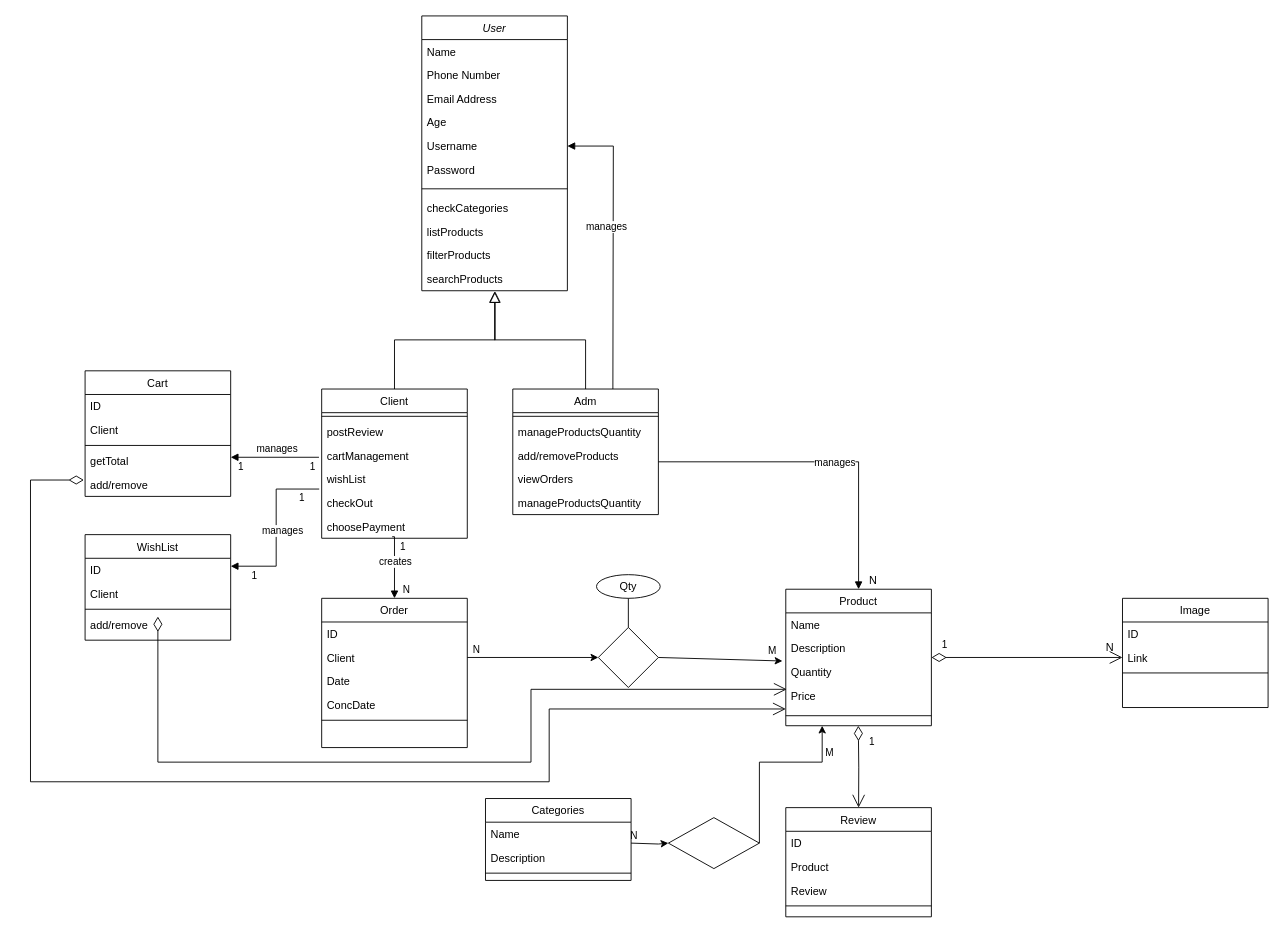
Some shapes in this 1284 by 933 pixel diagram are drawn without their labels. The centre of each missing label's shape, as x and y in pixels:
Categorie has Product: [713,843]
Order has Product: [627,657]
